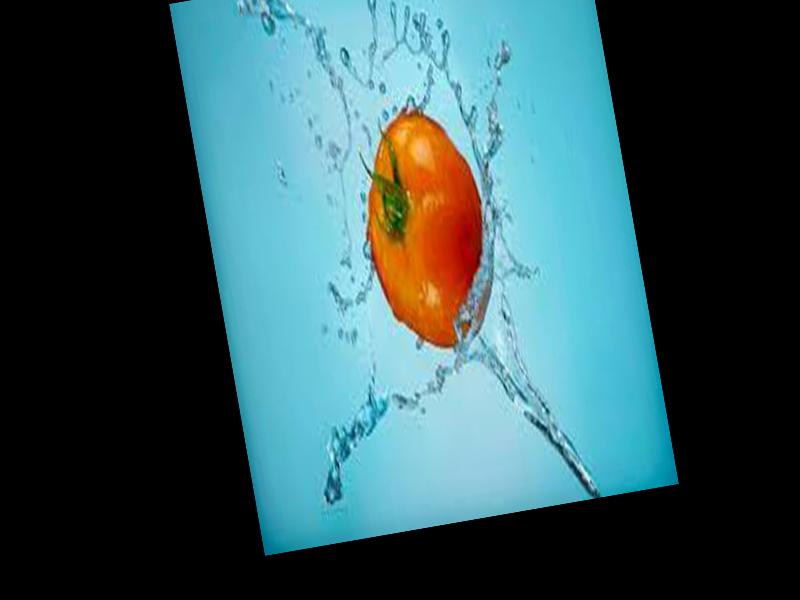Tomato: (349, 100, 506, 357)
